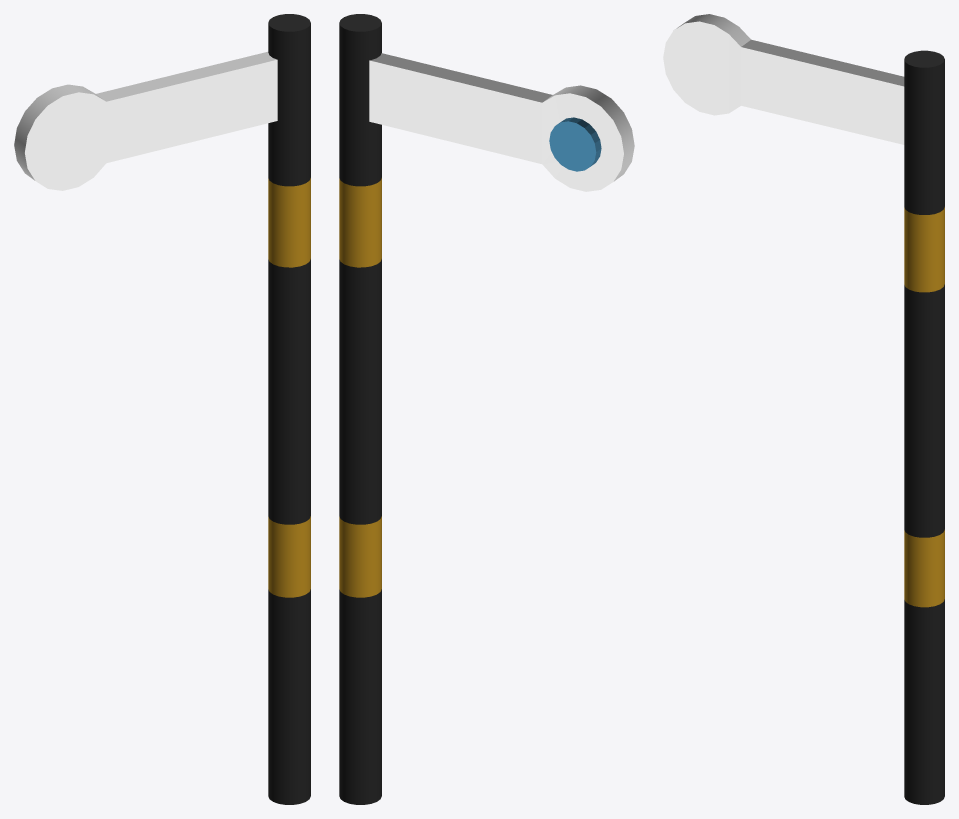
Rendered from bus_stop_01.obj.
The picture shows the model from 3 angles, left to right: view 1: azimuth 30°, elevation 25°; view 2: azimuth 150°, elevation 25°; view 3: azimuth 330°, elevation 25°; orthographic projection. The views are drawn at different scales.
Parts seen in each view (by area): view 1: Cylinder01, Cylinder03; view 2: Cylinder01, Cylinder03; view 3: Cylinder01, Cylinder03.
Boxes of the visible parts, box(x1,y1,x2,y2) form: Cylinder01: box(268, 14, 310, 804); Cylinder03: box(14, 51, 277, 190); Cylinder01: box(339, 14, 381, 804); Cylinder03: box(369, 53, 634, 191); Cylinder01: box(904, 50, 944, 804); Cylinder03: box(663, 14, 904, 144).
Size of the model in its own units: 1.56 by 4 by 0.2061.
